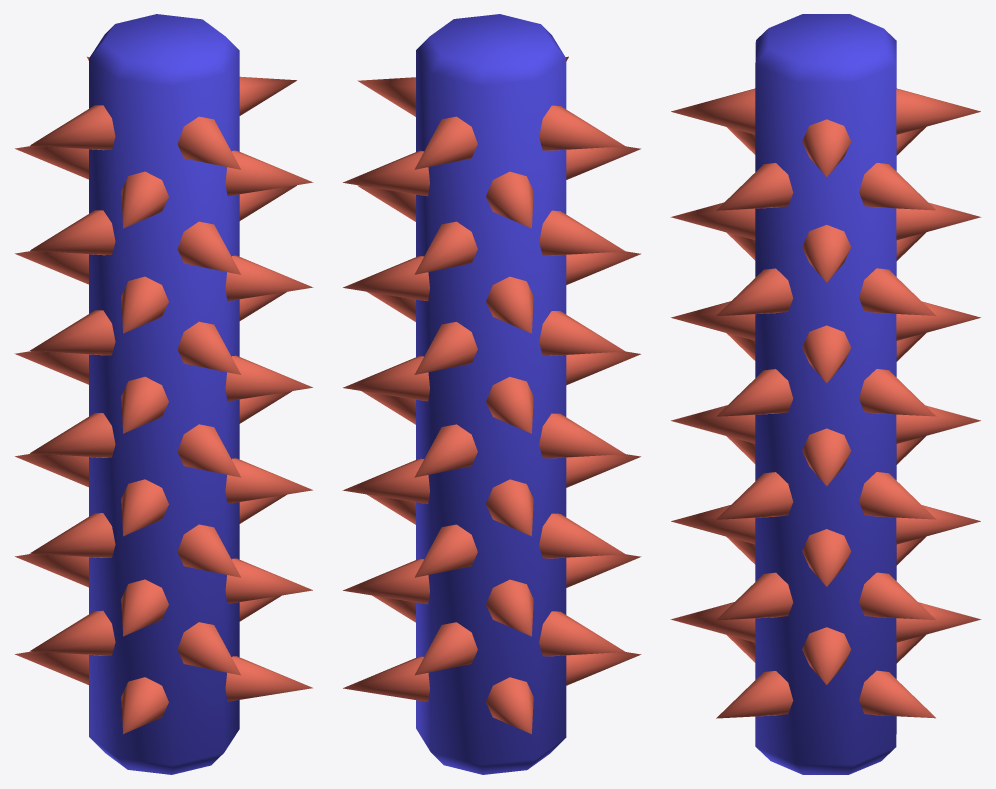
The model's file is platform_spike_final (1).fbx.
The picture shows the model from 3 angles, left to right: view 1: azimuth 30°, elevation 25°; view 2: azimuth 150°, elevation 25°; view 3: azimuth 270°, elevation 25°; orthographic projection.
Parts seen in each view (by area): view 1: Cylinder; view 2: Cylinder; view 3: Cylinder.
Boxes of the visible parts, <box> form: Cylinder: <box>14,14,313,774</box>; Cylinder: <box>342,14,641,774</box>; Cylinder: <box>670,14,981,774</box>.
Size of the model in its own units: 54.55 by 138 by 54.55.
